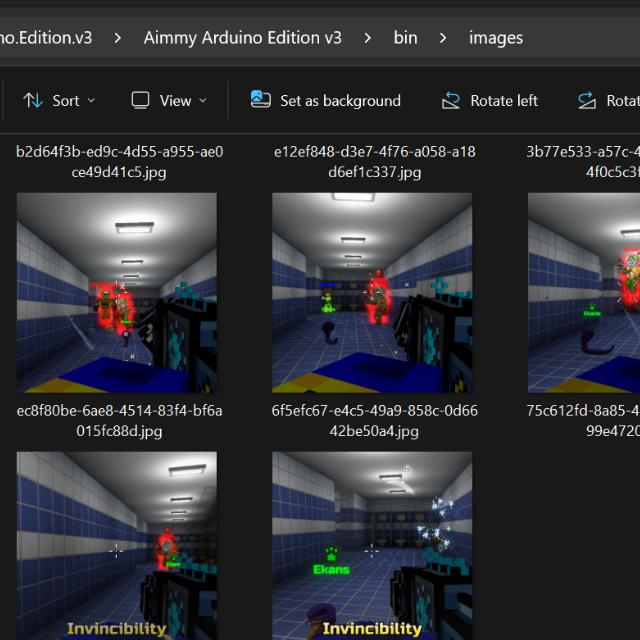Enemy: (367, 285, 388, 323), (619, 256, 640, 294), (95, 289, 115, 319), (157, 539, 176, 568), (115, 300, 131, 334)
